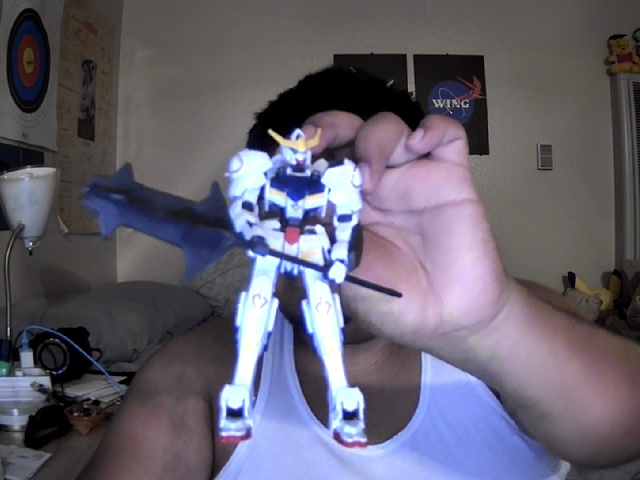Barbatos: (84, 125, 401, 450)
